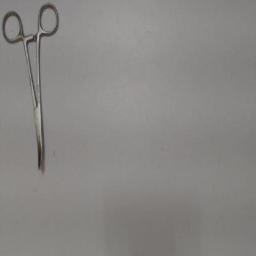Crile Artery Forceps: (2, 1, 62, 173)
